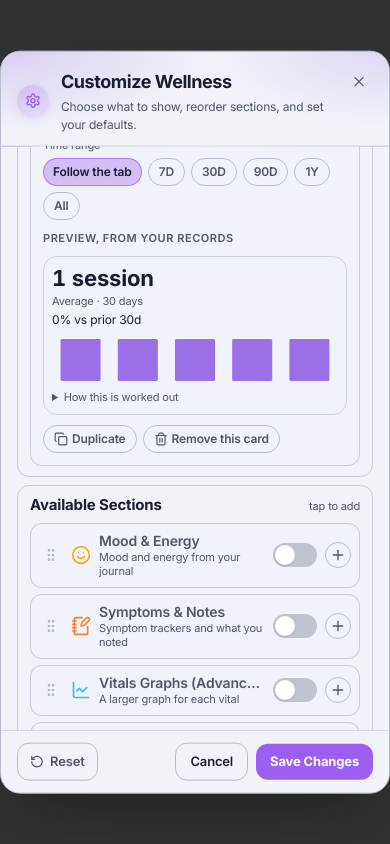
it: building a card by hand (no AI) › an existing card can be edited, duplicated and removed (two taps)
Earlier steps of the test are not shown.
Later steps or results of the test are not shown.
(page scrolled)
Click the button with test id "wellness-customize-duplicate-exercise-consistency" at (90, 438), box [43,424,137,452]
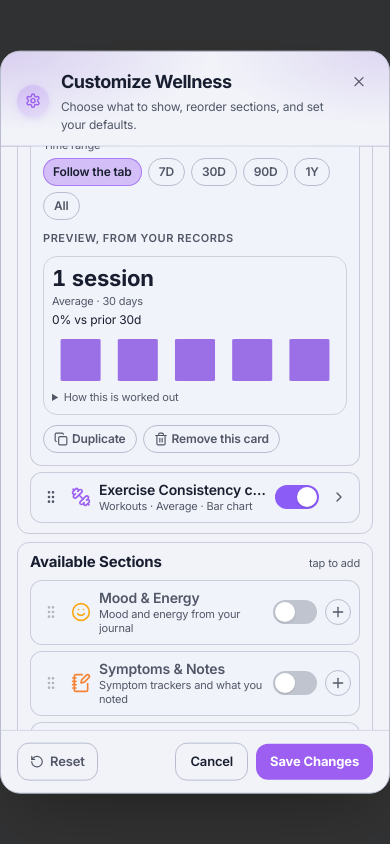
Click the button with test id "wellness-customize-remove-exercise-consistency" at (211, 438), box [143,424,280,452]
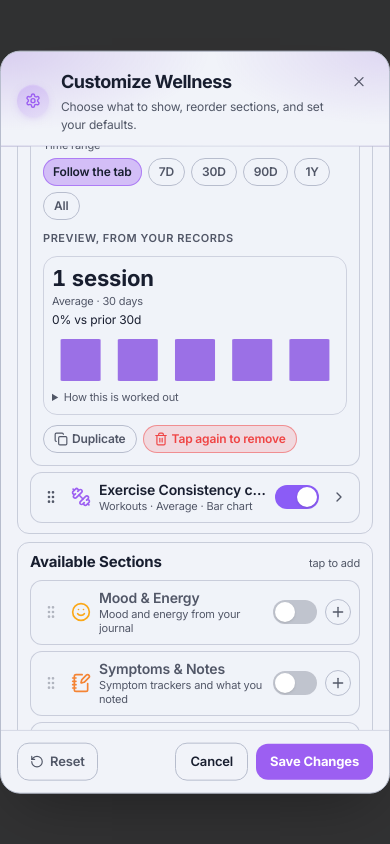
Result: the button with test id "wellness-customize-remove-exercise-consistency" reads "Tap again to remove" at [143,424,297,452]
